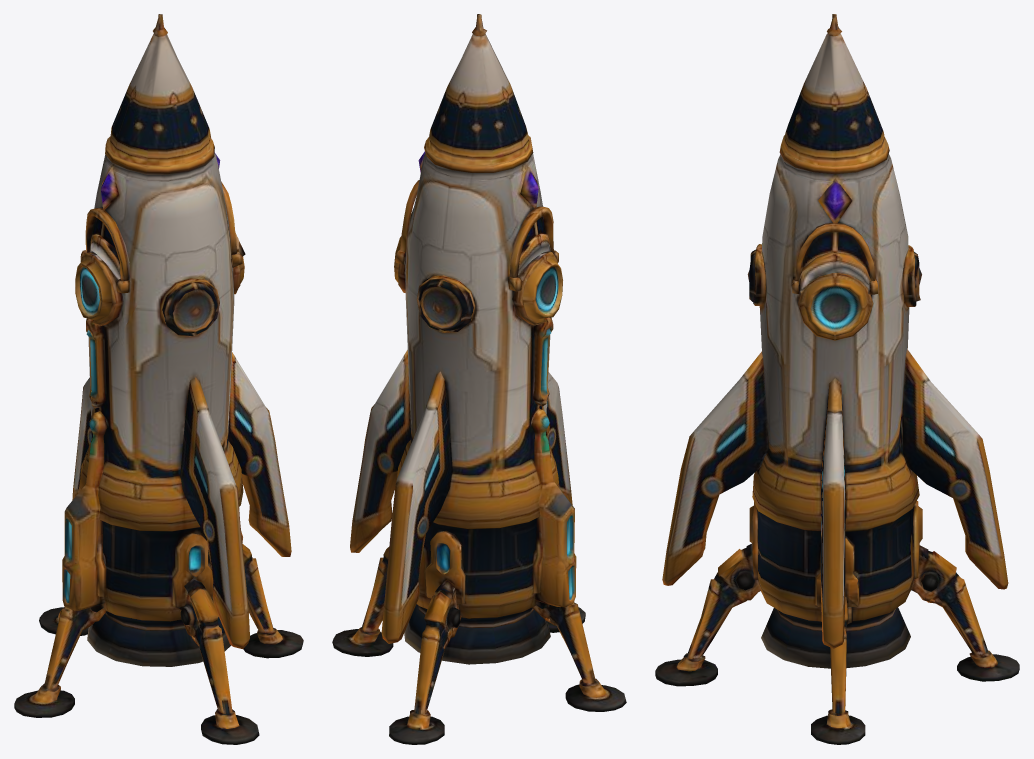
File: rocket-standard.glb
3 views of the same model, side by side, from view 1: azimuth 30°, elevation 25°; view 2: azimuth 150°, elevation 25°; view 3: azimuth 270°, elevation 25° (orthographic).
Visible parts, largest first — view 1: tripo_node_c52a85b5; view 2: tripo_node_c52a85b5; view 3: tripo_node_c52a85b5.
Part boxes in pixels (x1=…): tripo_node_c52a85b5: x1=14, y1=14, x2=303, y2=744; tripo_node_c52a85b5: x1=332, y1=14, x2=626, y2=744; tripo_node_c52a85b5: x1=655, y1=14, x2=1019, y2=744.
Size of the model in its own units: 0.4521 by 1 by 0.499.
Materials: 1 (1 with a texture image).
